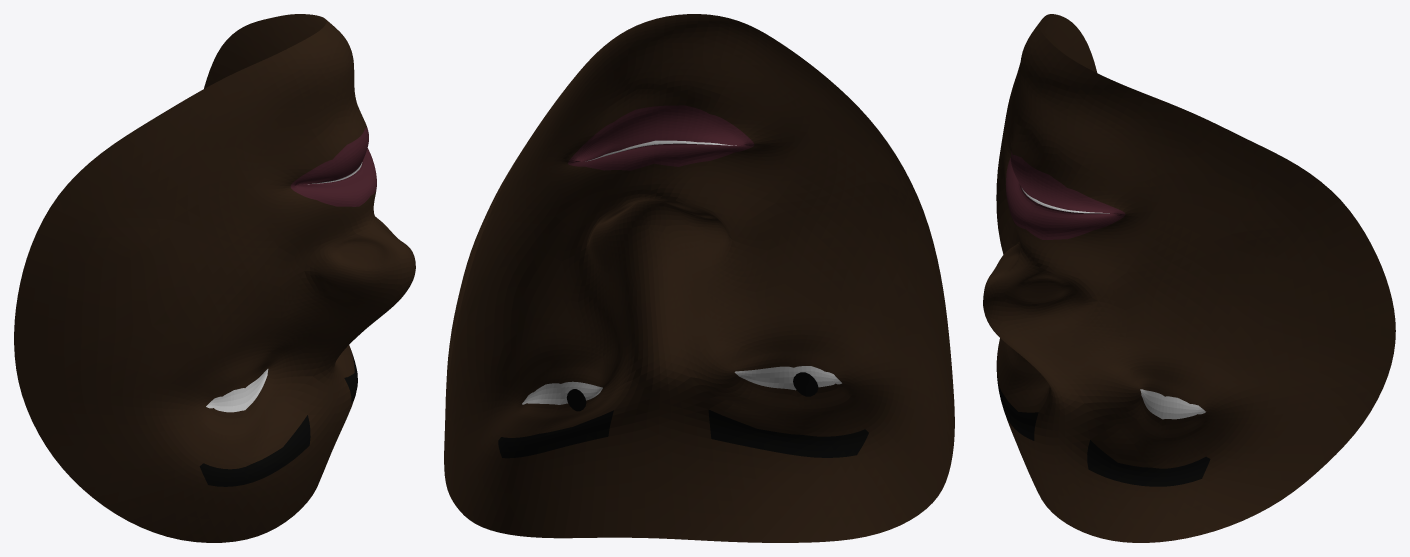
Rendered from VID-20250515-WA0002_f_00258.obj.
The picture shows the model from 3 angles, left to right: view 1: azimuth 30°, elevation 25°; view 2: azimuth 150°, elevation 25°; view 3: azimuth 270°, elevation 25°; orthographic projection. The views are drawn at different scales.
Parts seen in each view (by area): view 1: face_mesh_subdivided; view 2: face_mesh_subdivided; view 3: face_mesh_subdivided.
Boxes of the visible parts, x1,y1,x2,y2 form: face_mesh_subdivided: [14, 14, 415, 542]; face_mesh_subdivided: [444, 14, 954, 542]; face_mesh_subdivided: [983, 14, 1395, 542].
Bounding box in the file's own units: 0.4357 × 0.5344 × 0.4127.
